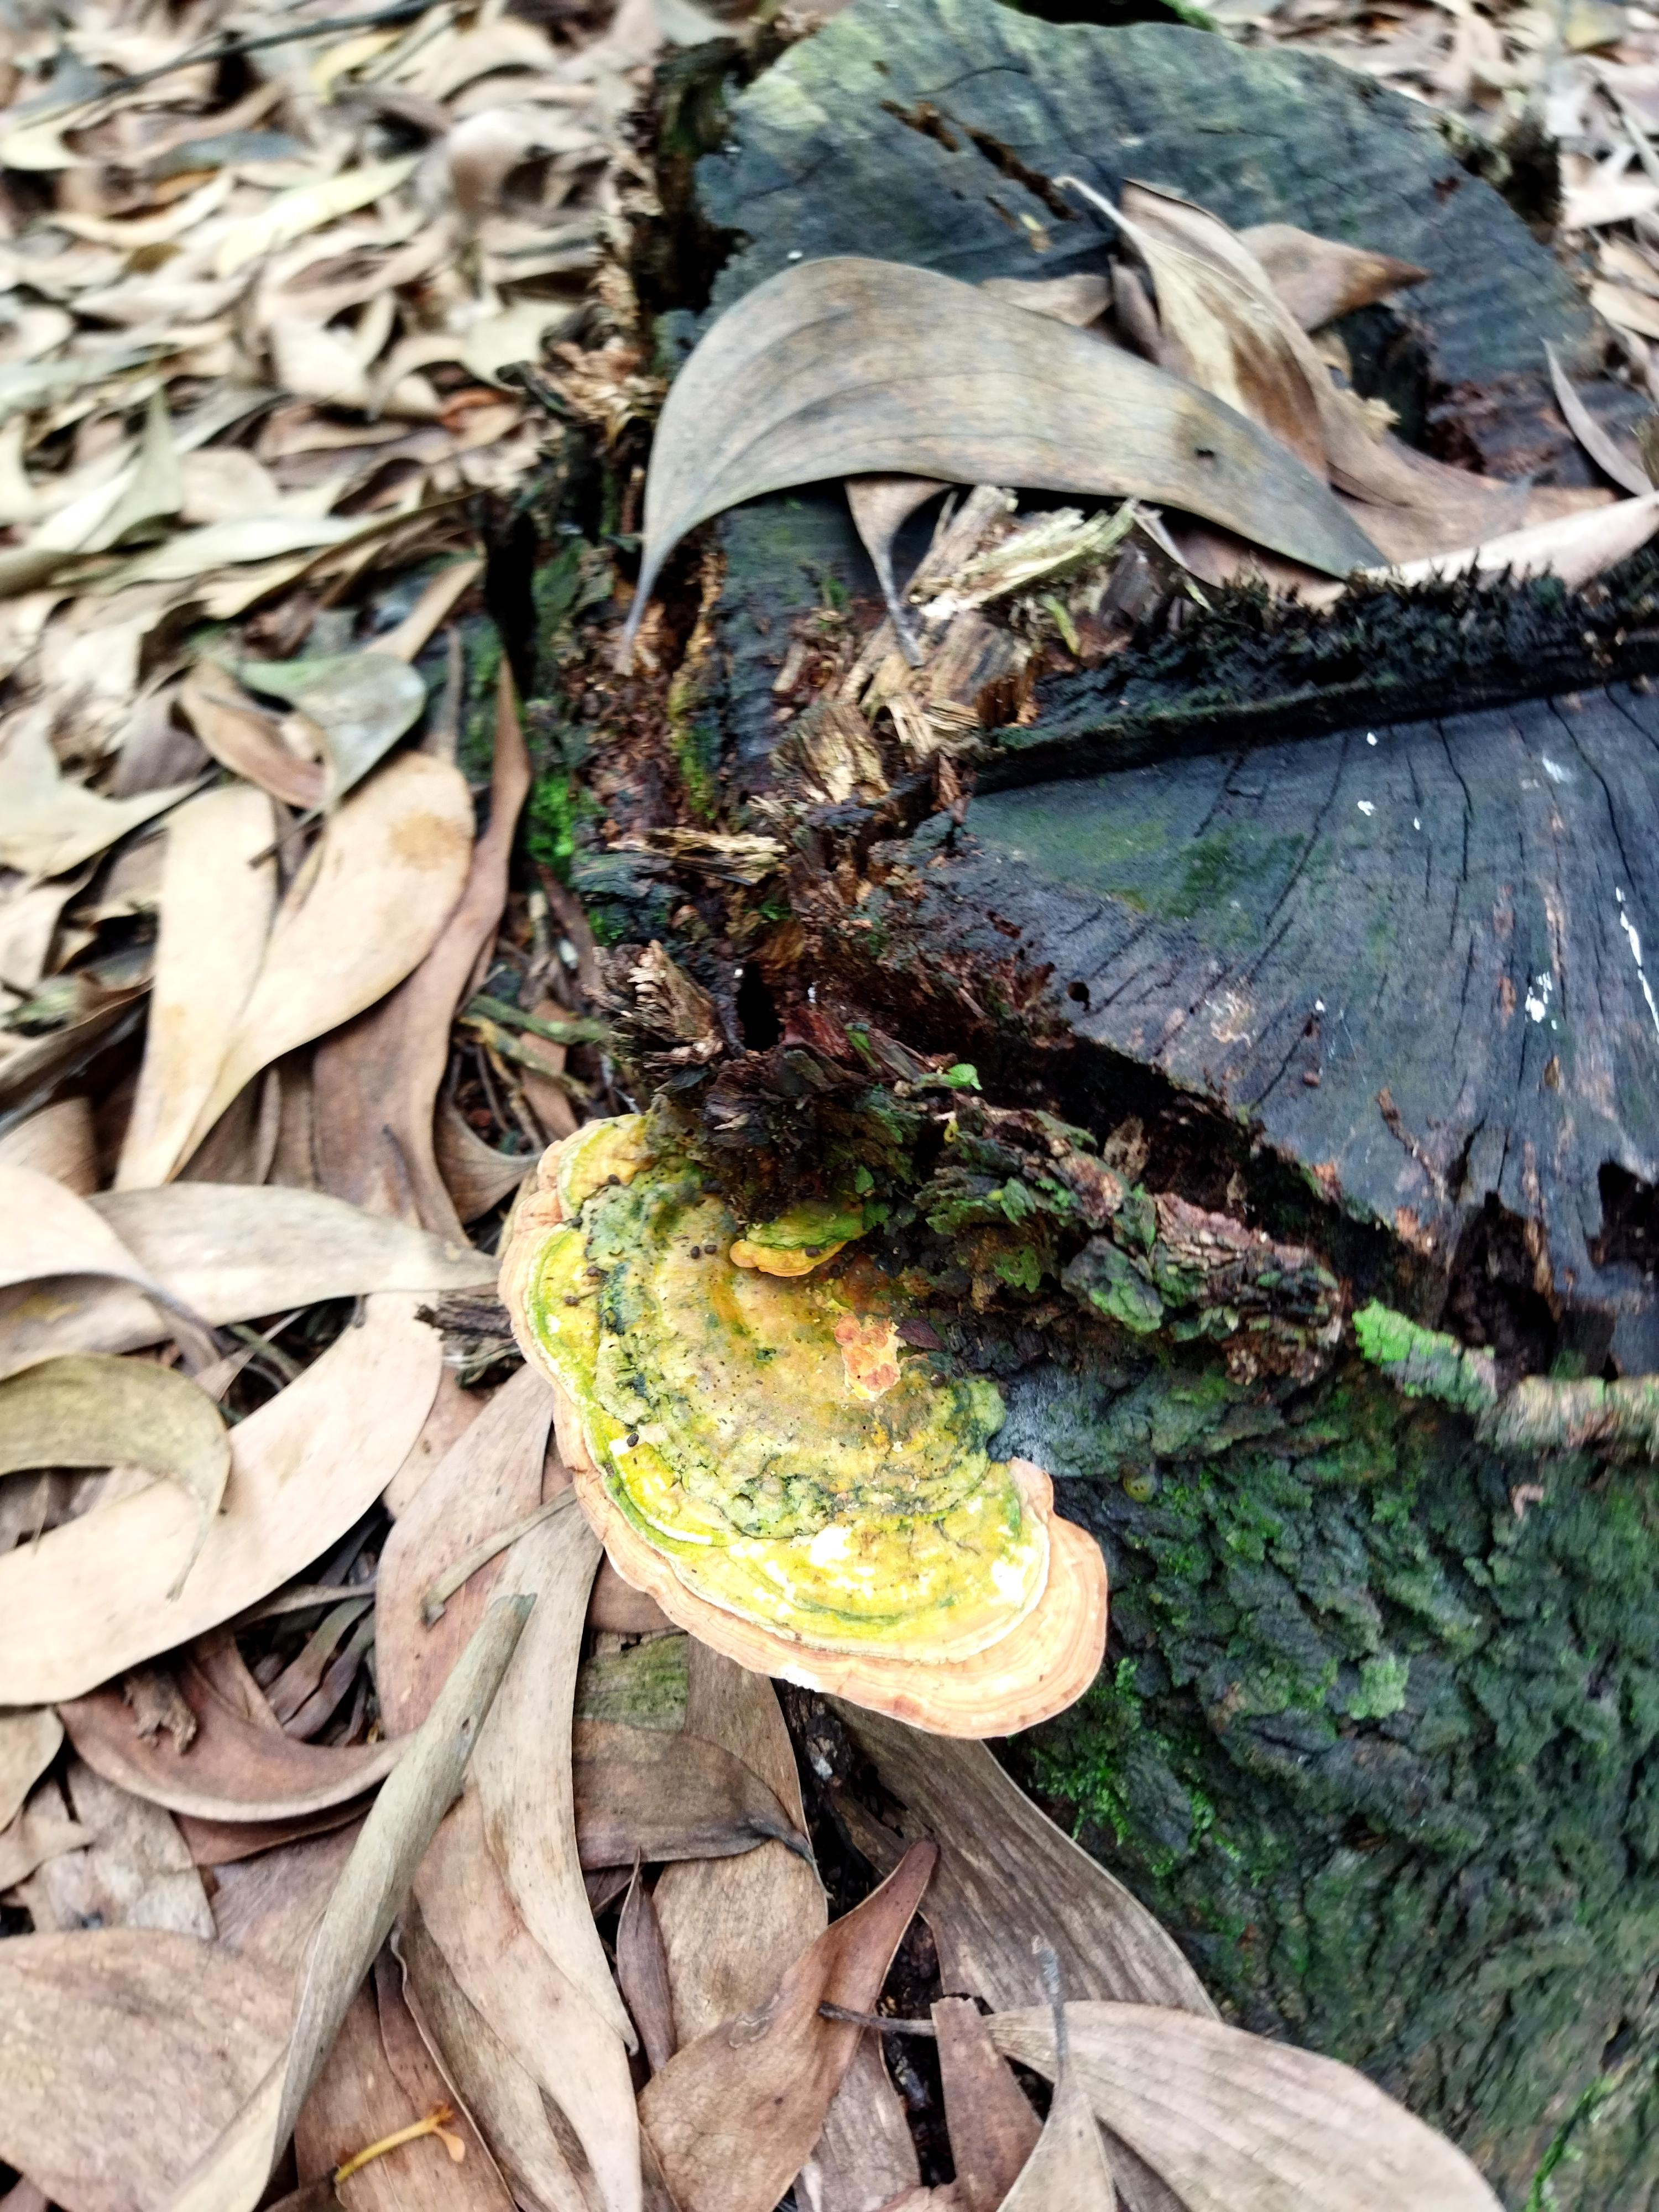Ganoderma - Fruit Body: (493, 1101, 1129, 1735)
